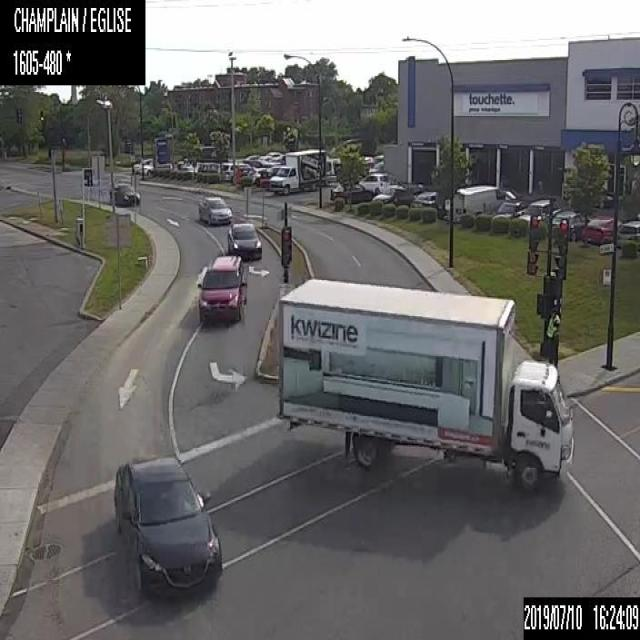vehicle: (276, 276, 574, 495), (112, 454, 222, 598), (196, 255, 248, 322), (270, 148, 325, 196), (452, 183, 505, 222), (227, 221, 261, 259), (581, 214, 622, 244), (518, 198, 561, 223), (551, 209, 585, 239), (198, 195, 232, 224), (374, 185, 414, 207), (330, 182, 372, 202), (107, 181, 139, 204), (492, 200, 527, 220), (358, 171, 388, 194), (615, 220, 639, 248), (217, 162, 250, 180), (410, 189, 436, 209), (138, 161, 172, 175), (233, 166, 255, 184), (133, 156, 152, 174), (252, 155, 280, 166), (253, 167, 271, 182), (197, 160, 219, 172), (243, 154, 260, 166), (265, 151, 285, 161), (501, 188, 517, 200), (362, 154, 374, 168)
